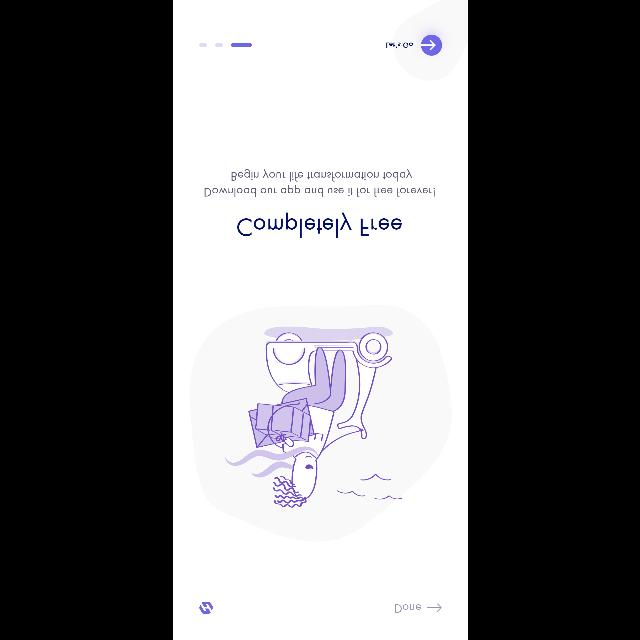icon: (421, 34, 442, 56), (426, 603, 442, 611)
image: (188, 306, 452, 542)
pageindicator: (198, 43, 252, 47)
text: (204, 169, 434, 197), (236, 212, 402, 238), (395, 604, 421, 612), (386, 42, 412, 48)
